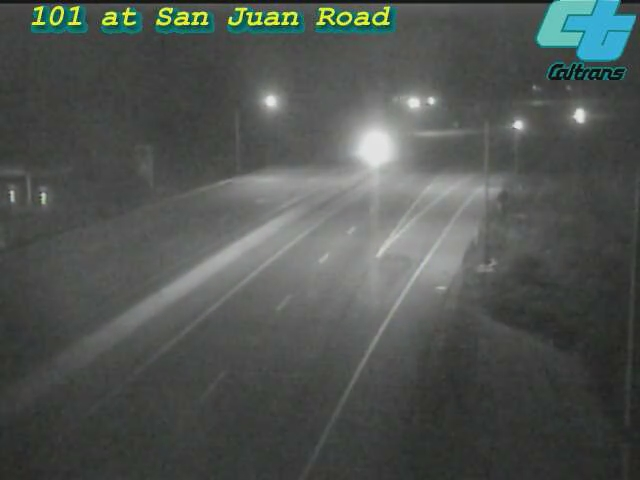vehicle: (346, 123, 396, 173), (495, 99, 545, 149), (554, 91, 604, 141)
